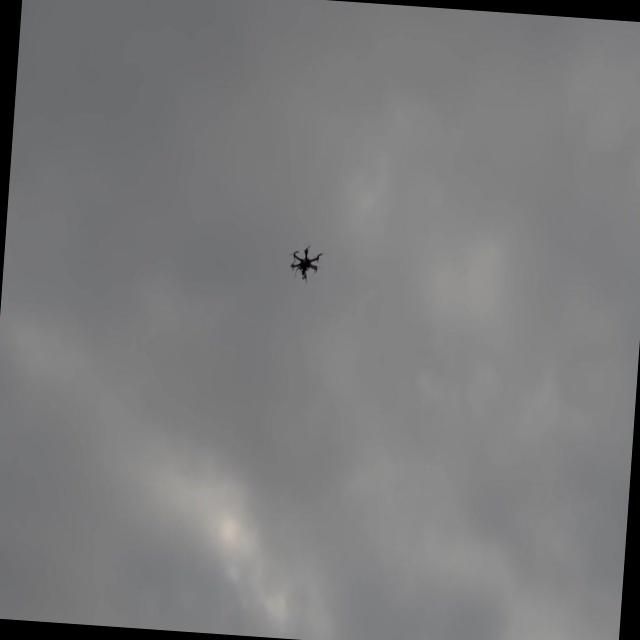drone: (287, 241, 324, 285)
